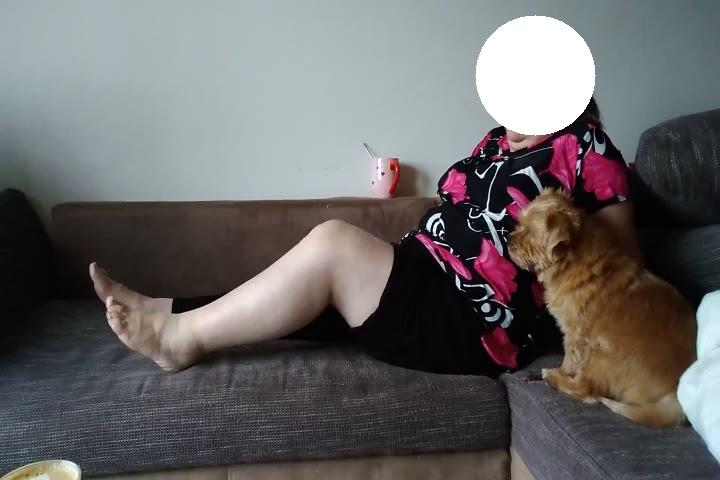lowerbody: (79, 206, 505, 388)
